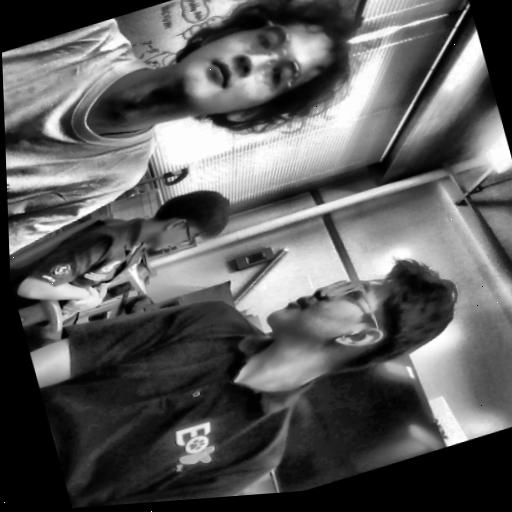Daifuku: (147, 0, 384, 161)
Not Daifuku: (266, 241, 466, 388), (129, 182, 244, 264)
